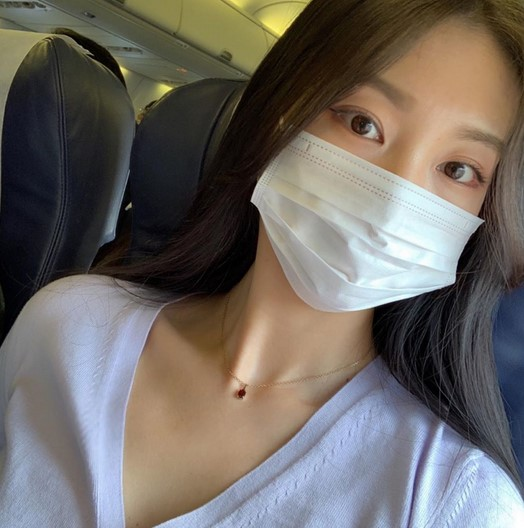face_with_mask: (249, 5, 521, 317)
